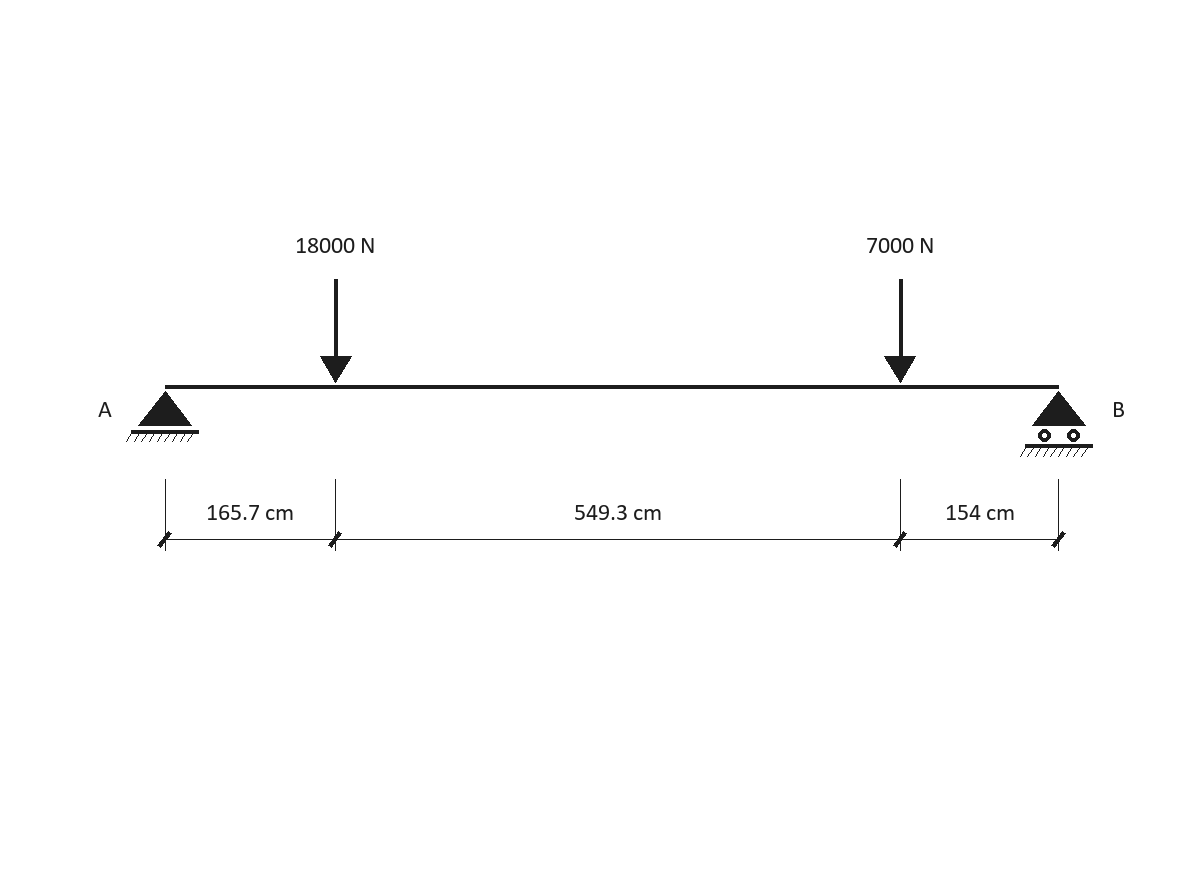pin_support: (126, 391, 199, 442)
point_load: (320, 279, 352, 383), (884, 279, 916, 383)
roller_support: (1020, 391, 1093, 457)
